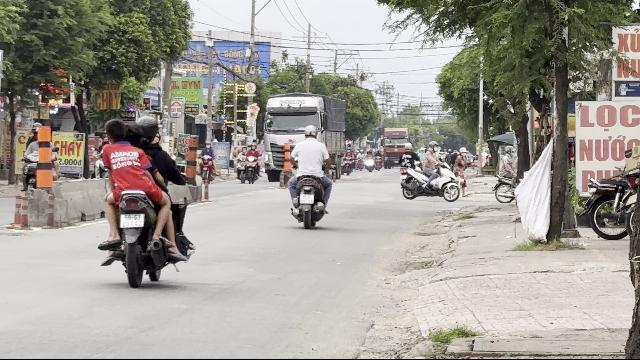helmet: (134, 114, 160, 146), (302, 124, 320, 139)
licenseplate: (120, 214, 144, 227), (300, 195, 314, 204)
motorcyclist: (95, 114, 193, 286), (284, 124, 334, 228)
nohelmet: (104, 118, 126, 142), (125, 124, 142, 144)
